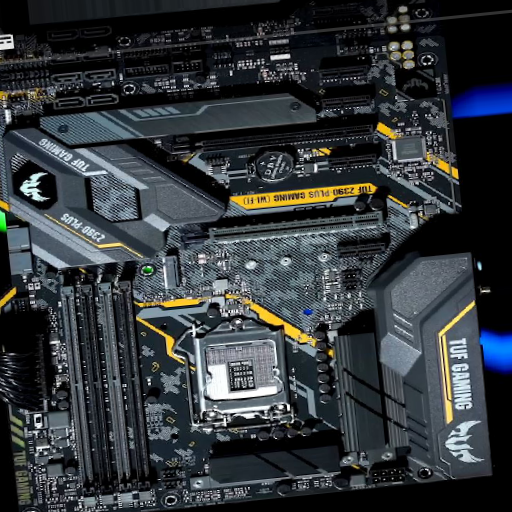CPU: (193, 315, 295, 430)
GPU: (178, 209, 384, 248), (167, 120, 374, 157)
MOTHERBOARD: (3, 1, 457, 512)
RAM: (59, 279, 156, 508)
SSD: (161, 254, 180, 292)
